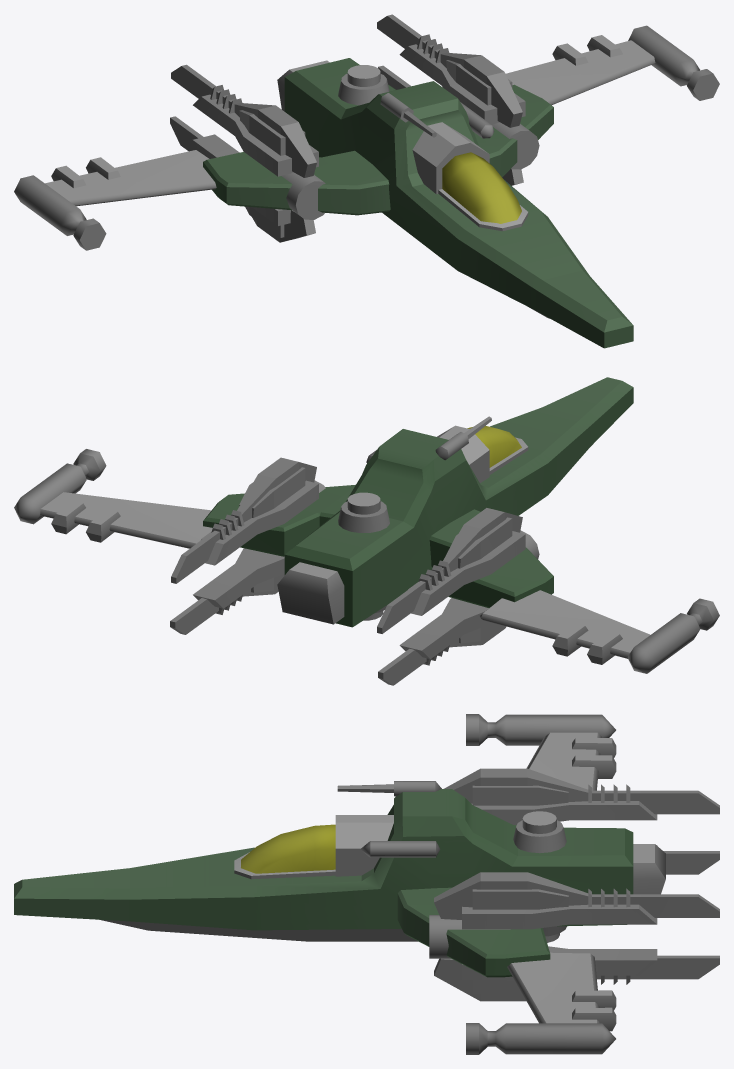
Rendered from ship_alphaWing.fbx.
The picture shows the model from 3 angles, top to bottom: view 1: azimuth 30°, elevation 25°; view 2: azimuth 150°, elevation 25°; view 3: azimuth 270°, elevation 25°; orthographic projection. The views are drawn at different scales.
Visible parts, largest first — view 1: ship_alphaWing; view 2: ship_alphaWing; view 3: ship_alphaWing.
Part boxes in pixels (box(x1,y1,x2,y2)): ship_alphaWing: box(14, 14, 719, 348); ship_alphaWing: box(14, 377, 719, 685); ship_alphaWing: box(14, 714, 719, 1054).
Bounding box in the file's own units: 3.72 × 0.8033 × 3.44.
